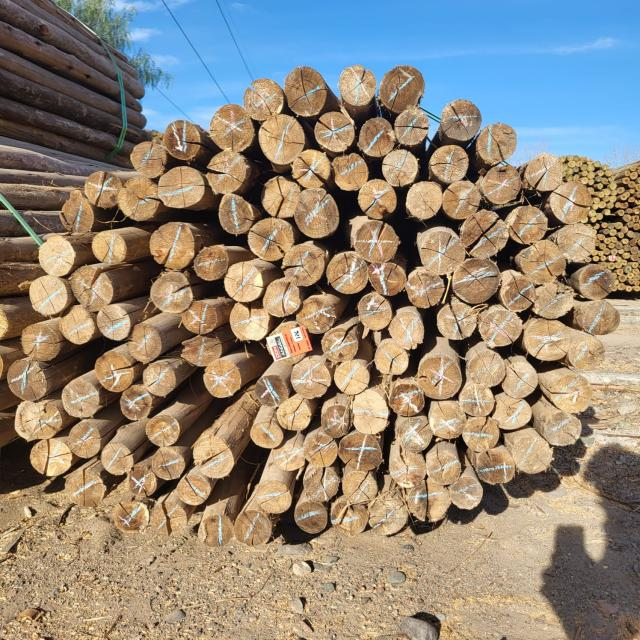package: (9, 65, 620, 542), (558, 154, 615, 219), (590, 224, 640, 296), (620, 157, 640, 227)
